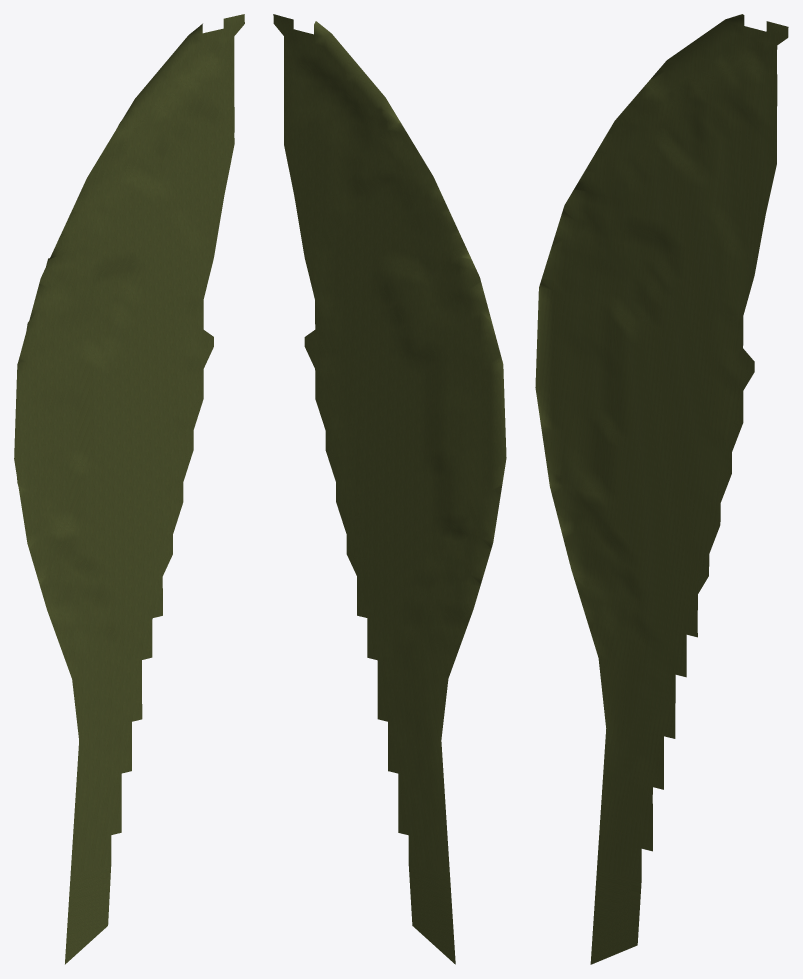
File: _0GRASS_ground.obj
3 views of the same model, side by side, from view 1: azimuth 30°, elevation 25°; view 2: azimuth 150°, elevation 25°; view 3: azimuth 330°, elevation 25° (orthographic). The views are drawn at different scales.
Visible parts, largest first — view 1: _0GRASS_ground_Scene.046; view 2: _0GRASS_ground_Scene.046; view 3: _0GRASS_ground_Scene.046.
Part boxes in pixels (x1,y1,x2,y2): _0GRASS_ground_Scene.046: (14,14,244,964); _0GRASS_ground_Scene.046: (273,14,506,964); _0GRASS_ground_Scene.046: (535,14,788,964).
Size of the model in its own units: 62116 by 232848 by 920.
